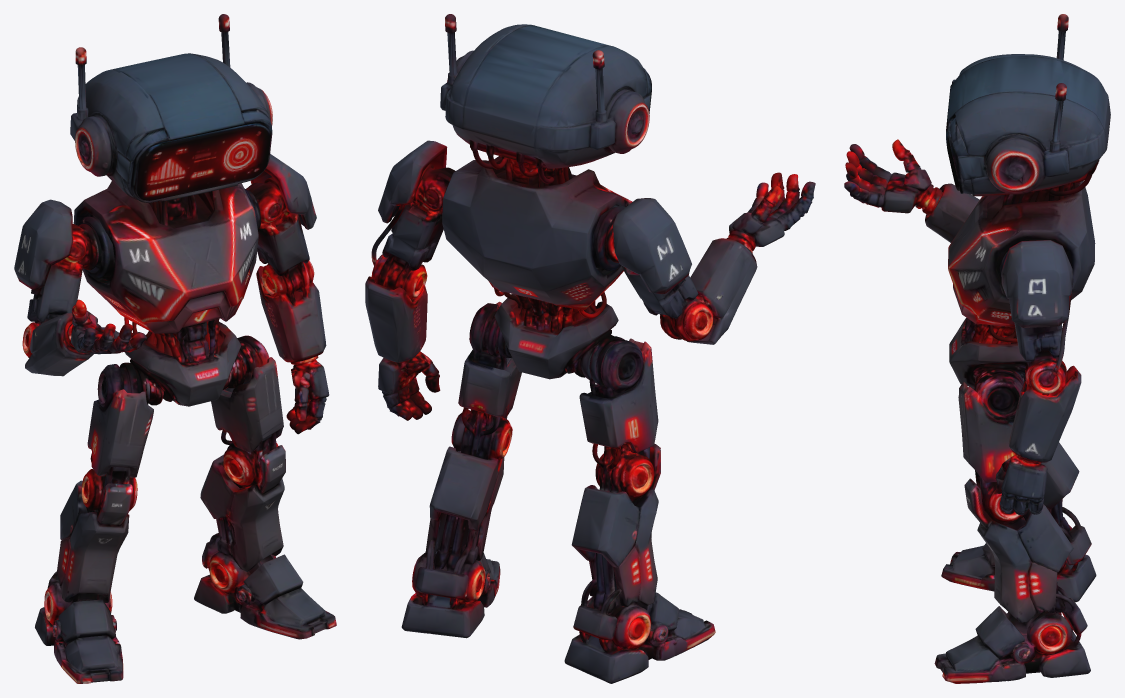
Rendered from robot.glb.
3 views of the same model, side by side, from view 1: azimuth 30°, elevation 25°; view 2: azimuth 150°, elevation 25°; view 3: azimuth 270°, elevation 25° (orthographic). The views are drawn at different scales.
Visible parts, largest first — view 1: node_0; view 2: node_0; view 3: node_0.
Part boxes in pixels (bbox=[...]): node_0: bbox=[14, 14, 336, 683]; node_0: bbox=[365, 14, 815, 683]; node_0: bbox=[844, 14, 1110, 683].
Bounding box in the file's own units: 0.6183 × 1.06 × 0.4456.
Materials: 1 (1 with a texture image).
